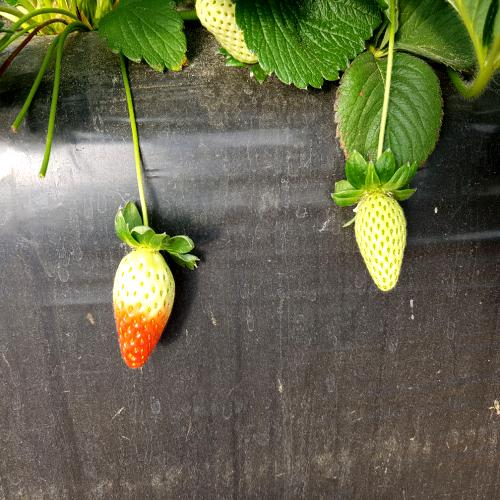partially-ripe: (113, 234, 181, 379)
unripe: (344, 180, 417, 308)
